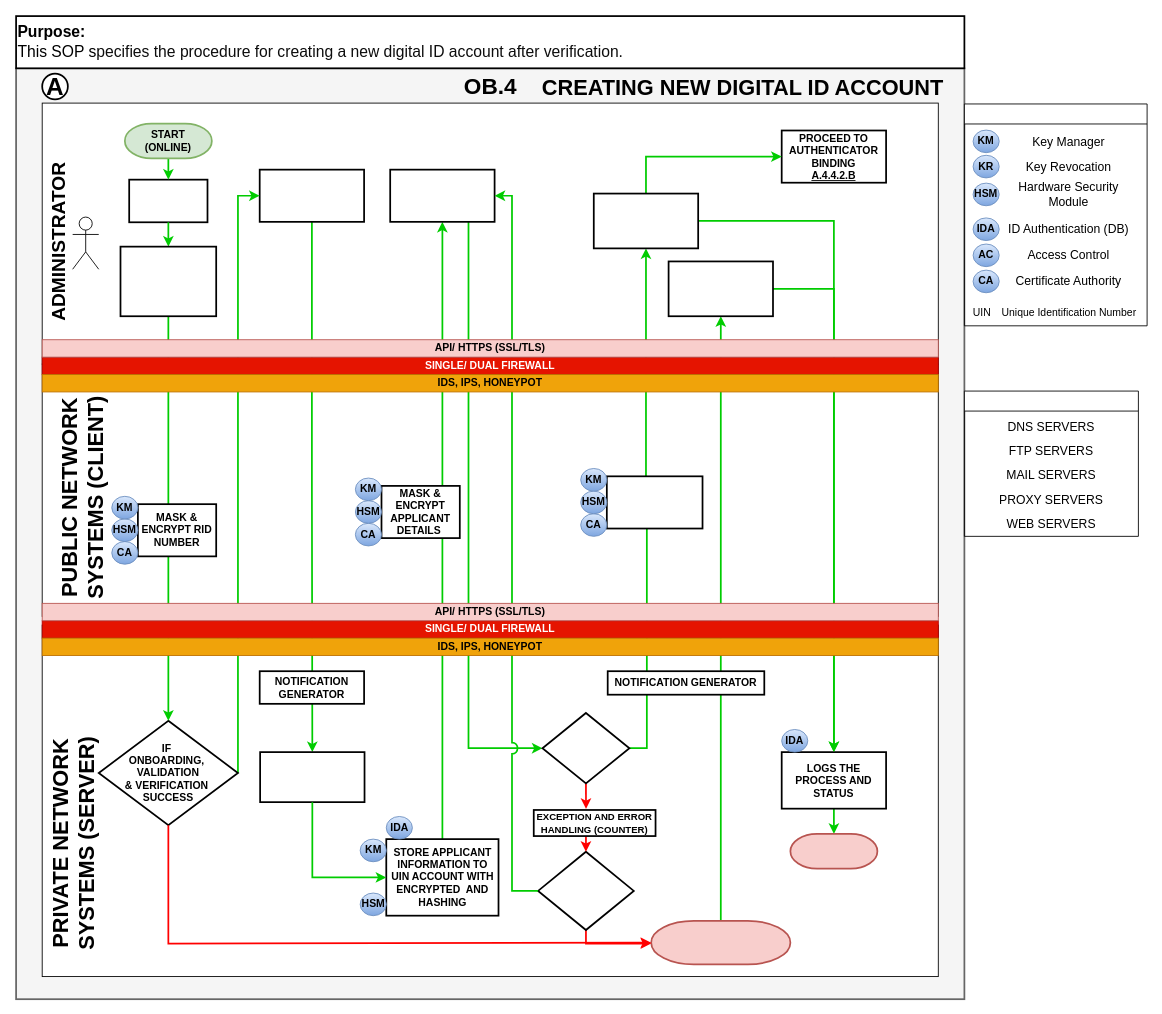
Image size: 1162x1014. Some labels were removed from this diagram. Here are the shapes that lost their labels. From the top down, the box of each, then its label:
(128, 178, 208, 223): RECEIVES REQUEST FOR NEW DID
(258, 168, 365, 222): INITIATES UIN GENERATION WITH RID
(389, 168, 495, 222): BIND APPLICANT ATTRIBUTES FROM RID TO UIN ACCOUNT
(964, 103, 1147, 326): LEGEND
(592, 192, 699, 249): RECEIVES NEW DID ACCOUNT DETAILS WITH UIN
(72, 216, 99, 269): ADMIN
(119, 245, 217, 317): VERIFY ALL STAGES OF IDENTITY PROOFING COMPLETED
(667, 260, 773, 317): RECEIVE NEW DID ACCOUNT FAILURE WITH ERROR MESSAGE
(964, 390, 1138, 536): PUBLIC NETWORK
(606, 475, 703, 529): MASK & ENCRYPT DID ACCOUNT DETAILS
(541, 712, 630, 784): IF BINDING SUCCESS
(259, 751, 365, 803): GENERATE UIN FOR APPLICANT
(789, 833, 878, 869): END
(537, 850, 634, 930): IF RETRY COUNT <=3
(650, 920, 791, 965): TERMINATE PROCESS: WITH ERROR MESSAGE
